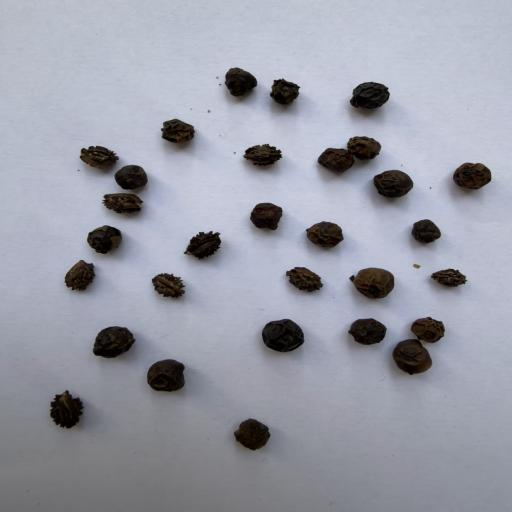Black_pepper: (86, 321, 138, 358), (229, 414, 277, 454), (257, 317, 306, 353), (349, 264, 395, 298), (348, 80, 393, 114), (148, 357, 189, 393), (390, 340, 434, 372), (85, 223, 127, 255), (344, 316, 388, 346), (308, 217, 346, 251), (157, 113, 200, 143), (454, 158, 494, 190), (222, 65, 259, 99), (412, 312, 454, 341), (246, 200, 282, 232), (348, 131, 388, 159), (406, 216, 443, 246), (115, 162, 154, 190), (270, 78, 305, 107), (374, 169, 410, 197), (320, 149, 354, 175)
papaya_seed: (47, 381, 97, 434), (60, 259, 110, 300), (422, 262, 480, 295), (238, 139, 284, 177), (282, 260, 324, 299), (146, 270, 190, 306), (71, 140, 115, 175), (179, 228, 225, 261), (97, 194, 149, 220)
